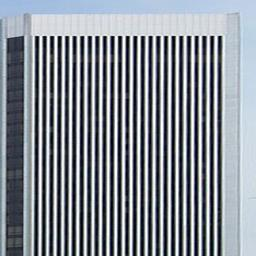building: (21, 12, 242, 256)
